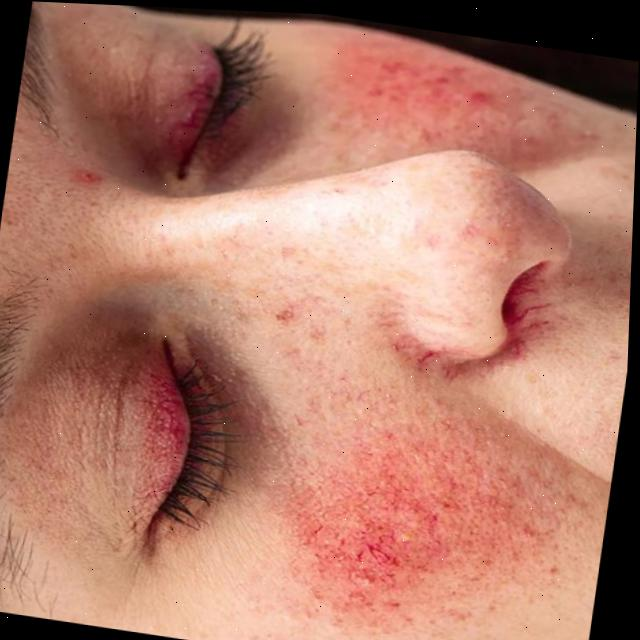Rosacea: (280, 409, 491, 640), (328, 26, 486, 134)
